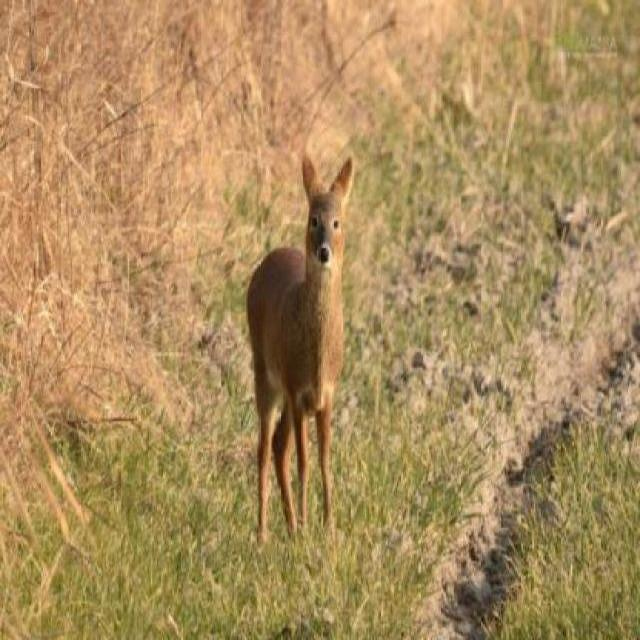deer: (234, 142, 360, 547)
